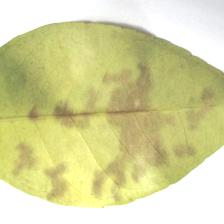black spot: (31, 62, 190, 173)
